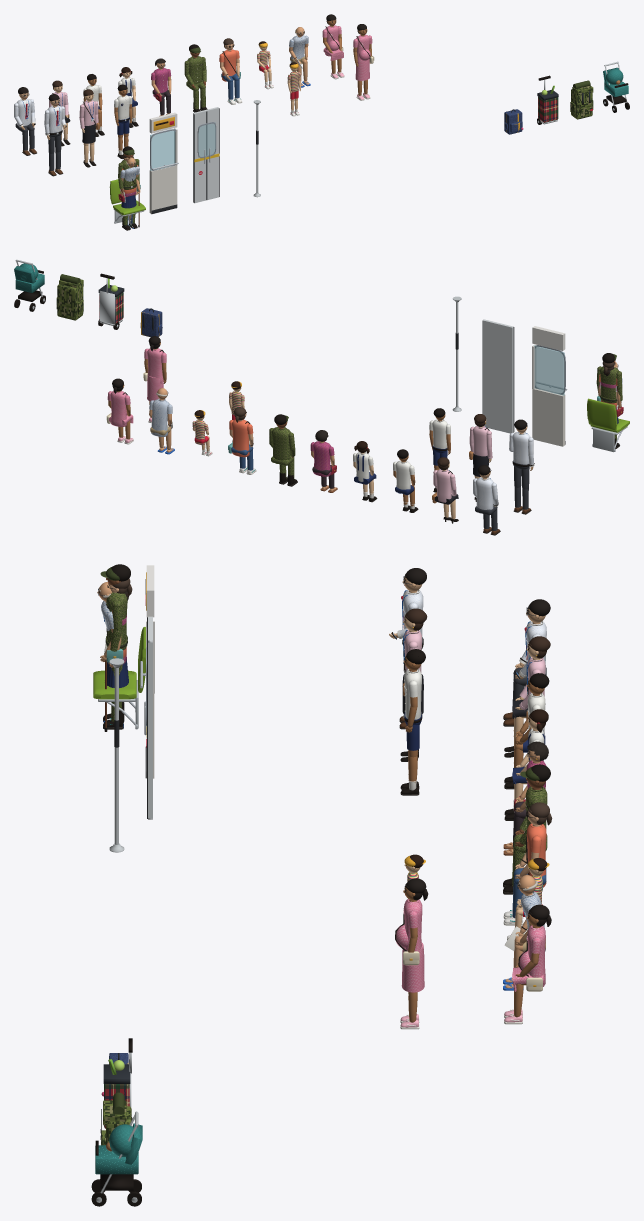
File: mrt-assets.glb
The picture shows the model from 3 angles, top to bottom: view 1: azimuth 30°, elevation 25°; view 2: azimuth 150°, elevation 25°; view 3: azimuth 270°, elevation 25°; orthographic projection. The views are drawn at different scales.
Parts seen in each view (by area): view 1: DoorLeaf, Char_worker_a_Stand_Mesh, WallLow, Char_worker_b_Stand_Mesh, Char_expecting_Stand_Mesh, Char_ns_Sit_Mesh, Char_worker_a_Sit_Mesh, Char_parent_Sit_Mesh, Char_expecting_Sit_Mesh, Char_student_a_Stand_Mesh, StrollerTpl_Mesh, WallGlass (+15 smaller); view 2: DoorLeaf, WallLow, Char_worker_a_Stand_Mesh, Char_ns_Sit_Mesh, WallGlass, Char_worker_a_Sit_Mesh, Char_parent_Sit_Mesh, Char_expecting_Sit_Mesh, Char_expecting_Stand_Mesh, PackTpl_Mesh, Char_uncle_Sit_Mesh, StrollerTpl_Mesh (+13 smaller); view 3: StrollerTpl_Mesh, Char_expecting_Stand_Mesh, Char_expecting_Sit_Mesh, Char_student_a_Stand_Mesh, Char_parent_Sit_Mesh, Char_ns_Stand_Mesh, Char_ns_Sit_Mesh, Char_worker_a_Sit_Mesh, Char_worker_b_Sit_Mesh, Char_uncle_Sit_Mesh, Char_student_a_Sit_Mesh, Char_worker_b_Stand_Mesh (+7 smaller).
Part boxes in pixels (<box>): DoorLeaf: <box>193,107,218,203</box>; Char_worker_a_Stand_Mesh: <box>44,94,66,176</box>; WallLow: <box>149,165,177,213</box>; Char_worker_b_Stand_Mesh: <box>79,89,100,167</box>; Char_expecting_Stand_Mesh: <box>353,24,374,100</box>; Char_ns_Sit_Mesh: <box>184,44,207,112</box>; Char_worker_a_Sit_Mesh: <box>14,87,36,155</box>; Char_parent_Sit_Mesh: <box>219,38,242,104</box>; Char_expecting_Sit_Mesh: <box>322,14,344,79</box>; Char_student_a_Stand_Mesh: <box>114,84,132,158</box>; StrollerTpl_Mesh: <box>603,61,629,112</box>; WallGlass: <box>150,128,175,170</box>; DoorLeaf: <box>482,319,513,433</box>; WallLow: <box>532,388,565,446</box>; Char_worker_a_Stand_Mesh: <box>509,419,534,514</box>; Char_ns_Sit_Mesh: <box>269,414,297,486</box>; WallGlass: <box>533,345,564,395</box>; Char_worker_a_Sit_Mesh: <box>473,465,500,535</box>; Char_parent_Sit_Mesh: <box>228,407,256,474</box>; Char_expecting_Sit_Mesh: <box>106,378,133,444</box>; Char_expecting_Stand_Mesh: <box>143,336,166,423</box>; PackTpl_Mesh: <box>56,274,83,320</box>; Char_uncle_Sit_Mesh: <box>149,388,174,454</box>; StrollerTpl_Mesh: <box>14,259,45,311</box>; StrollerTpl_Mesh: <box>91,1111,142,1206</box>; Char_expecting_Stand_Mesh: <box>395,878,428,1029</box>; Char_expecting_Sit_Mesh: <box>504,904,551,1024</box>; Char_student_a_Stand_Mesh: <box>400,649,425,795</box>; Char_parent_Sit_Mesh: <box>503,802,552,925</box>; Char_ns_Stand_Mesh: <box>100,564,130,729</box>; Char_ns_Sit_Mesh: <box>503,764,550,894</box>; Char_worker_a_Sit_Mesh: <box>503,599,550,726</box>; Char_worker_b_Sit_Mesh: <box>504,636,550,757</box>; Char_uncle_Sit_Mesh: <box>503,875,545,990</box>; Char_student_a_Sit_Mesh: <box>504,673,549,789</box>; Char_worker_b_Stand_Mesh: <box>400,608,427,761</box>.
Size of the model in its own units: 11.87 by 2.1 by 4.66.
124 materials, 12 textured.
